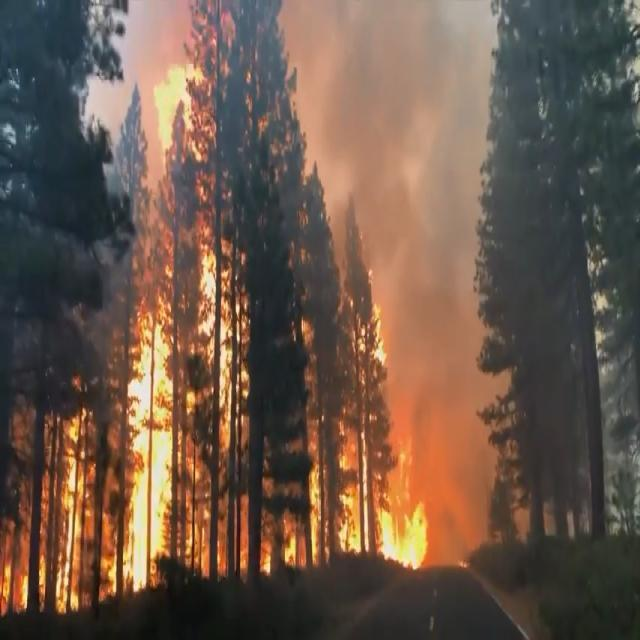Fire: (308, 264, 426, 568), (124, 295, 168, 585), (52, 392, 88, 606), (150, 60, 200, 158)
